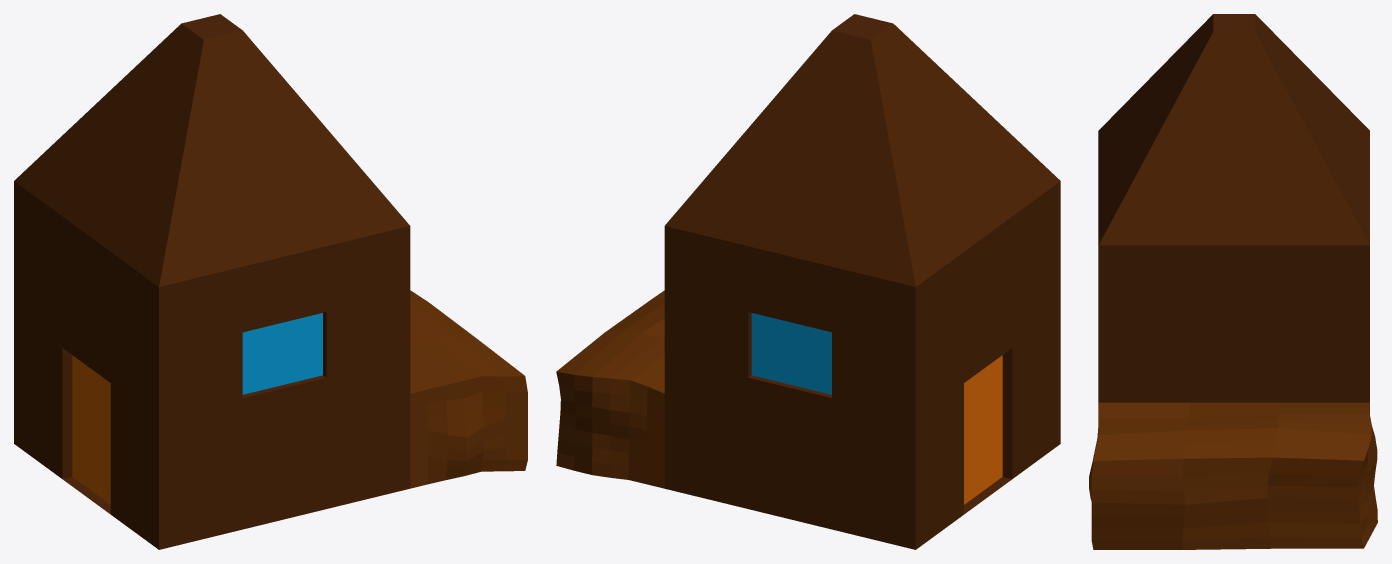
The model's file is storage.fbx.
3 renders of one model, left to right at view 1: azimuth 30°, elevation 25°; view 2: azimuth 150°, elevation 25°; view 3: azimuth 270°, elevation 25°, orthographic. The views are drawn at different scales.
Visible parts, largest first — view 1: Cube; view 2: Cube; view 3: Cube.
Boxes of the visible parts, x1,y1,x2,y2 form: Cube: (14,14,527,549); Cube: (556,14,1060,549); Cube: (1089,14,1377,549).
Size of the model in its own units: 952 by 1089 by 681.
